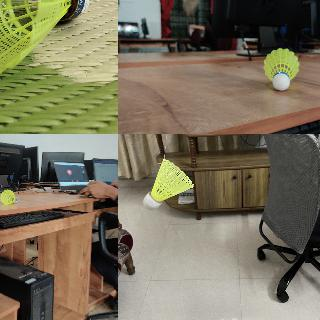shuttlecock: (0, 0, 91, 77), (143, 159, 193, 209), (262, 46, 298, 90), (0, 189, 18, 205)
